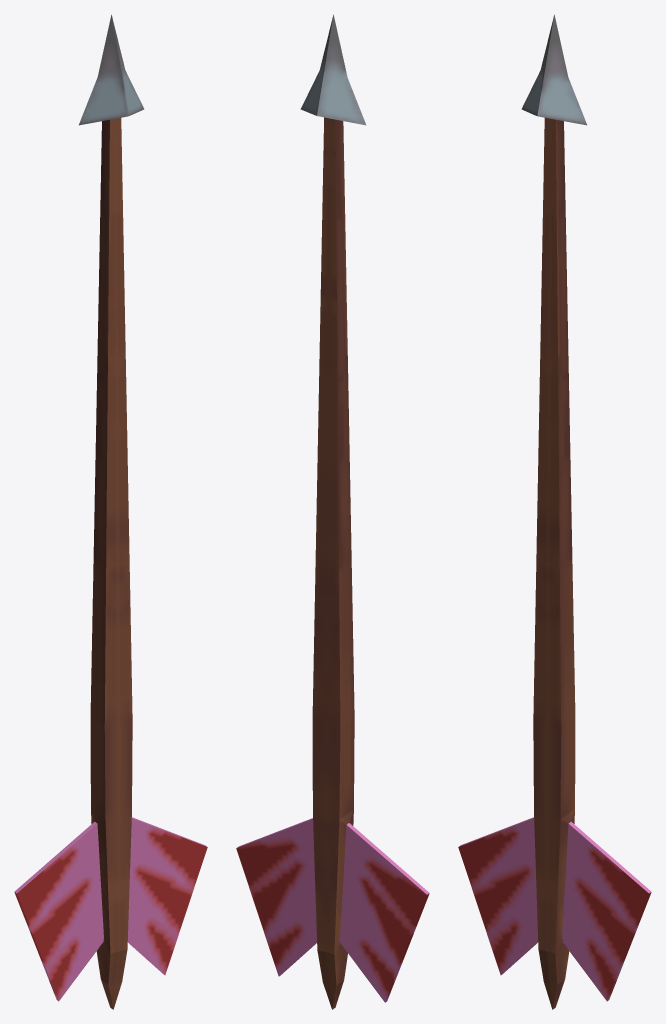
File: Arrow.fbx
The picture shows the model from 3 angles, left to right: view 1: azimuth 30°, elevation 25°; view 2: azimuth 150°, elevation 25°; view 3: azimuth 330°, elevation 25°; orthographic projection.
Visible parts, largest first — view 1: Cube; view 2: Cube; view 3: Cube.
Part boxes in pixels (x1,y1,x2,y2): Cube: [14, 14, 207, 1009]; Cube: [236, 14, 429, 1009]; Cube: [458, 14, 651, 1009].
Size of the model in its own units: 15.42 by 76.77 by 4.73.
